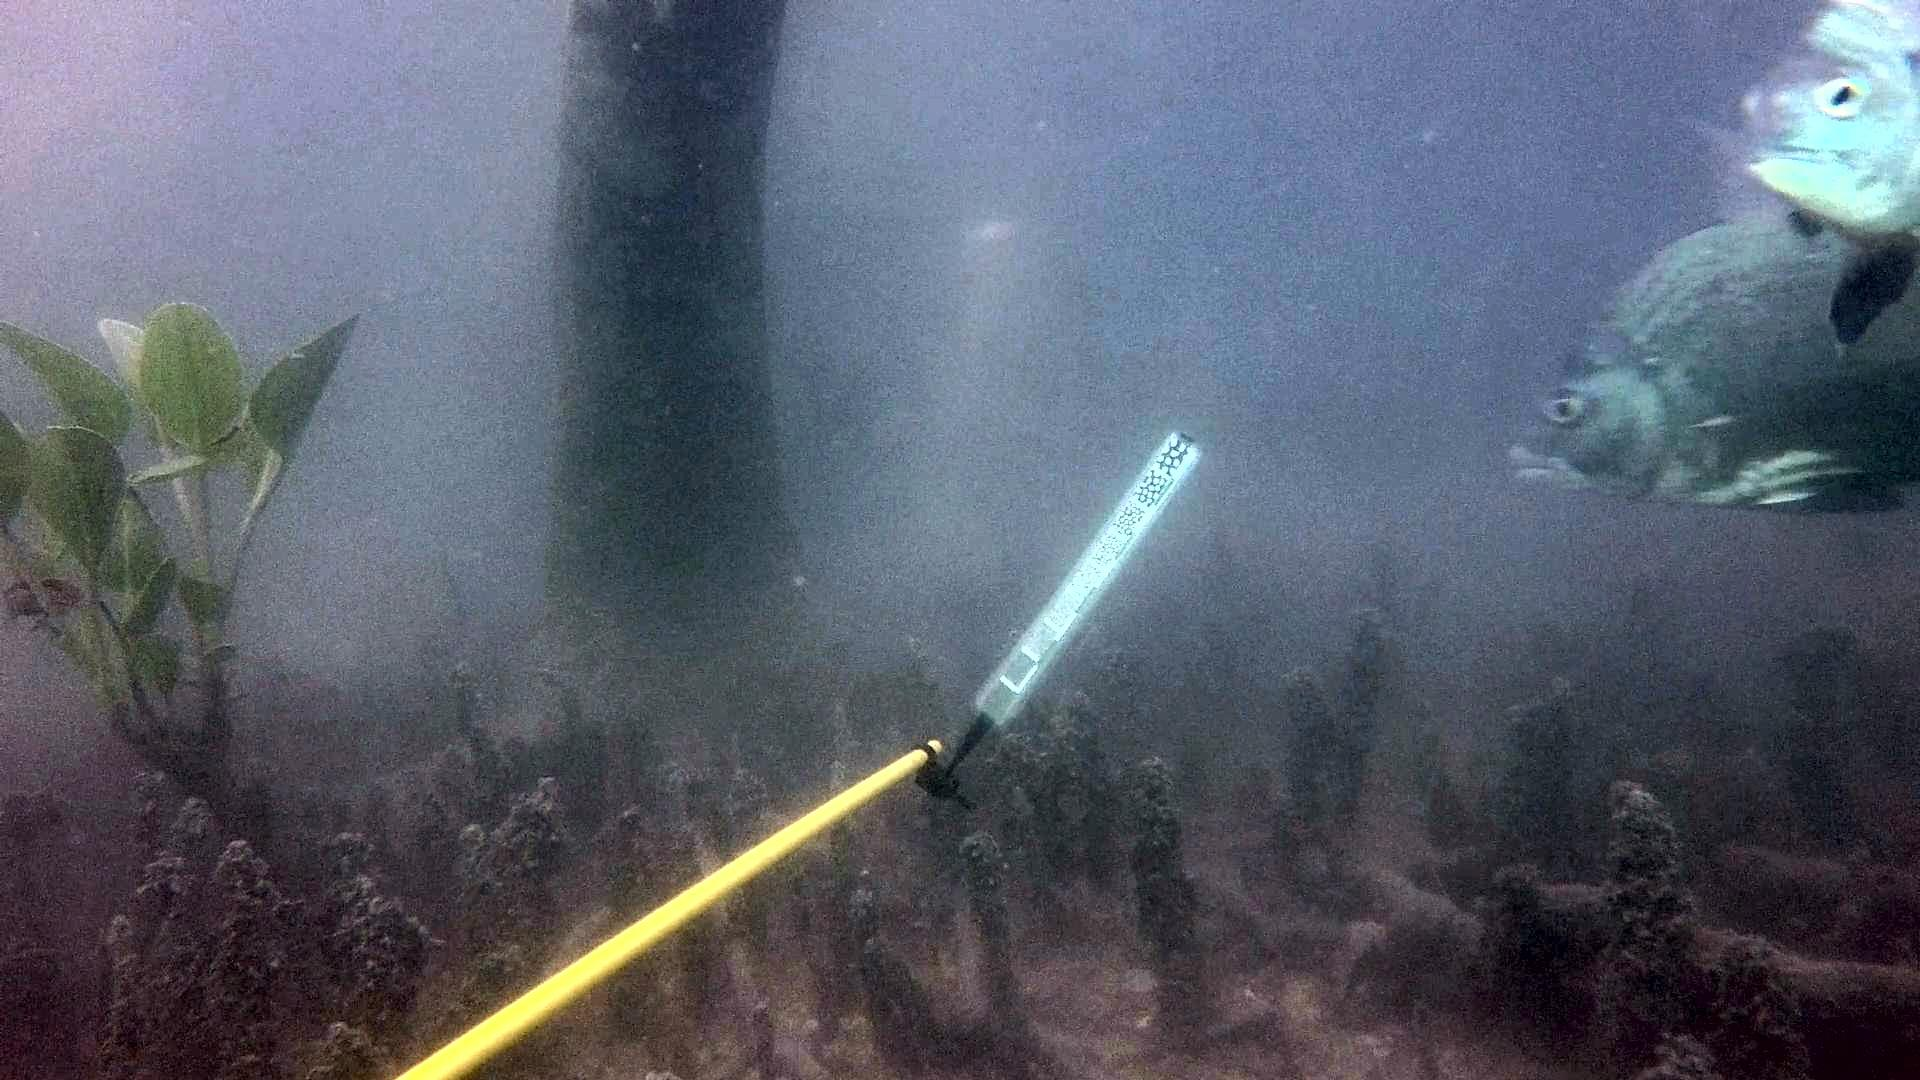acanthopagrus palmaris: (1493, 211, 1920, 526), (1705, 0, 1920, 356)
